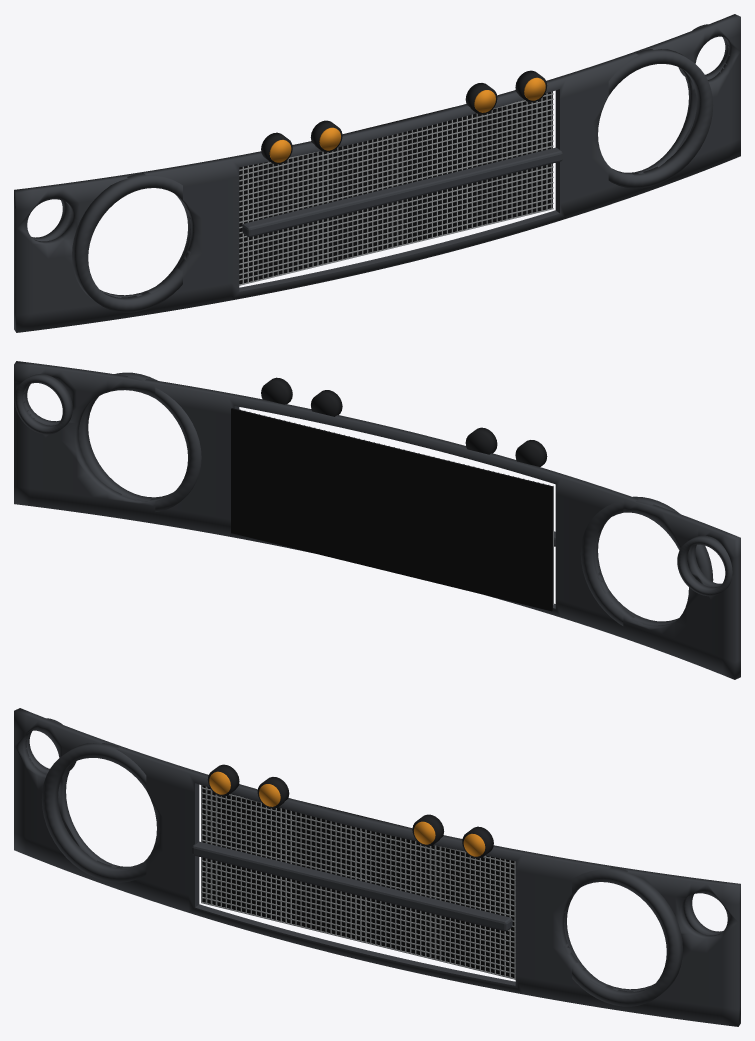
The model's file is grille_klc_ja.glb.
3 views of the same model, one above another, from view 1: azimuth 30°, elevation 25°; view 2: azimuth 150°, elevation 25°; view 3: azimuth 330°, elevation 25° (orthographic).
Parts seen in each view (by area): view 1: panel.013, backing.008, slat0.014, bezel0.009, bezel1.010, mh08580.004, mh085812.004, mh085814.004, mh085821.003, mh085813.004, mh085820.003, mh08582.004 (+12 smaller); view 2: backing.008, panel.013, bezel1.010, bezel0.009, sigBezel1.006, sigBezel0.006, marker1.001, marker0, marker2, marker3; view 3: panel.013, backing.008, slat0.014, bezel1.010, bezel0.009, mh08580.004, mh08587.004, mh085818.003, mh08588.004, mh085814.004, mh085813.004, mh085821.003 (+12 smaller).
Part boxes in pixels (bbox=[...]): panel.013: bbox=[14, 14, 740, 332]; backing.008: bbox=[239, 91, 552, 284]; slat0.014: bbox=[242, 147, 562, 237]; bezel0.009: bbox=[72, 173, 190, 312]; bezel1.010: bbox=[608, 49, 713, 188]; mh08580.004: bbox=[239, 208, 553, 285]; mh085812.004: bbox=[239, 145, 553, 223]; mh085814.004: bbox=[239, 135, 553, 212]; mh085821.003: bbox=[239, 98, 553, 176]; mh085813.004: bbox=[239, 140, 553, 217]; mh085820.003: bbox=[239, 104, 553, 181]; mh08582.004: bbox=[239, 197, 553, 275]; backing.008: bbox=[231, 408, 552, 611]; panel.013: bbox=[14, 361, 740, 679]; bezel1.010: bbox=[78, 372, 201, 511]; bezel0.009: bbox=[580, 496, 713, 625]; sigBezel1.006: bbox=[14, 374, 72, 434]; sigBezel0.006: bbox=[677, 535, 732, 596]; marker1.001: bbox=[261, 377, 292, 404]; marker0: bbox=[515, 440, 547, 466]; marker2: bbox=[465, 427, 497, 454]; marker3: bbox=[311, 390, 342, 416]; panel.013: bbox=[14, 708, 740, 1026]; backing.008: bbox=[202, 785, 514, 977]; slat0.014: bbox=[192, 841, 512, 931]; bezel1.010: bbox=[564, 867, 682, 1006]; bezel0.009: bbox=[41, 743, 146, 882]; mh08580.004: bbox=[201, 902, 515, 979]; mh08587.004: bbox=[201, 865, 515, 942]; mh085818.003: bbox=[201, 808, 515, 885]; mh08588.004: bbox=[201, 860, 515, 937]; mh085814.004: bbox=[201, 829, 515, 906]; mh085813.004: bbox=[201, 834, 515, 911]; mh085821.003: bbox=[201, 792, 515, 869].
Size of the model in its own units: 1.31 by 0.2745 by 0.1117.
